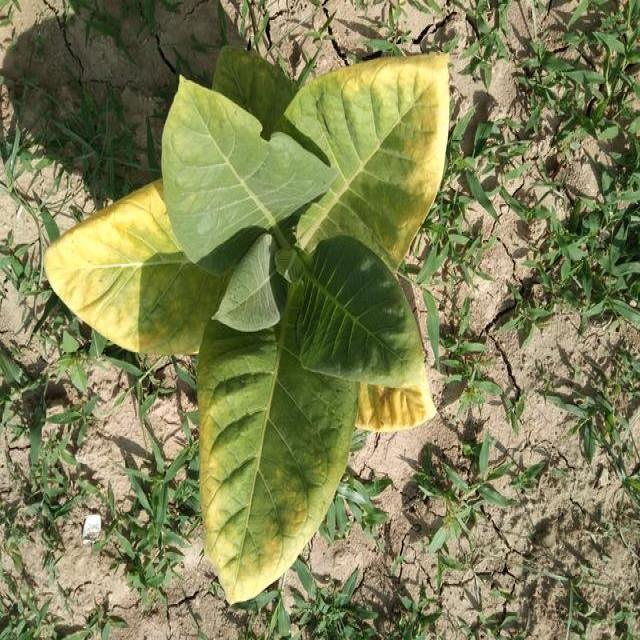crop: (41, 51, 454, 613)
